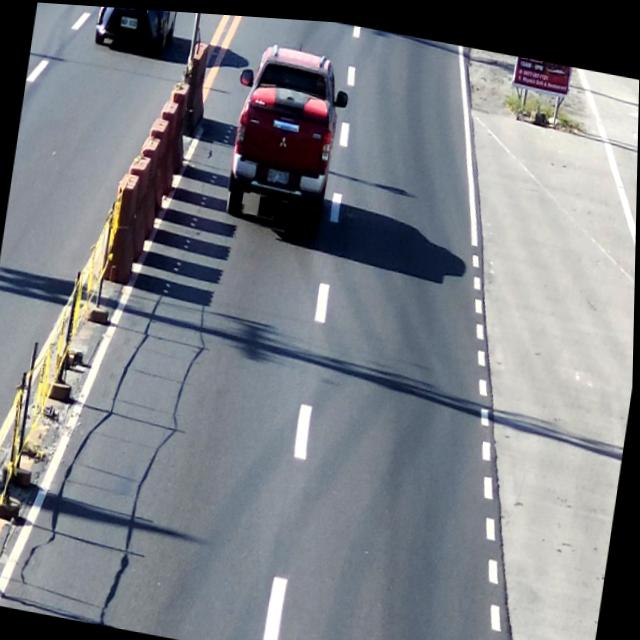Car: (221, 34, 353, 238)
License-Plate: (263, 161, 294, 189), (118, 12, 138, 31)
